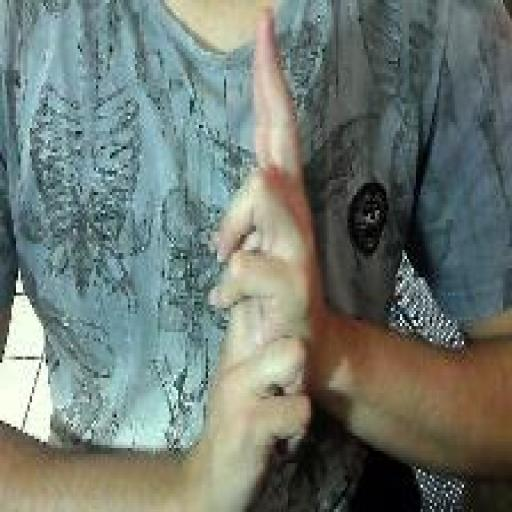Hitsuji -ram-: (206, 4, 322, 510)
